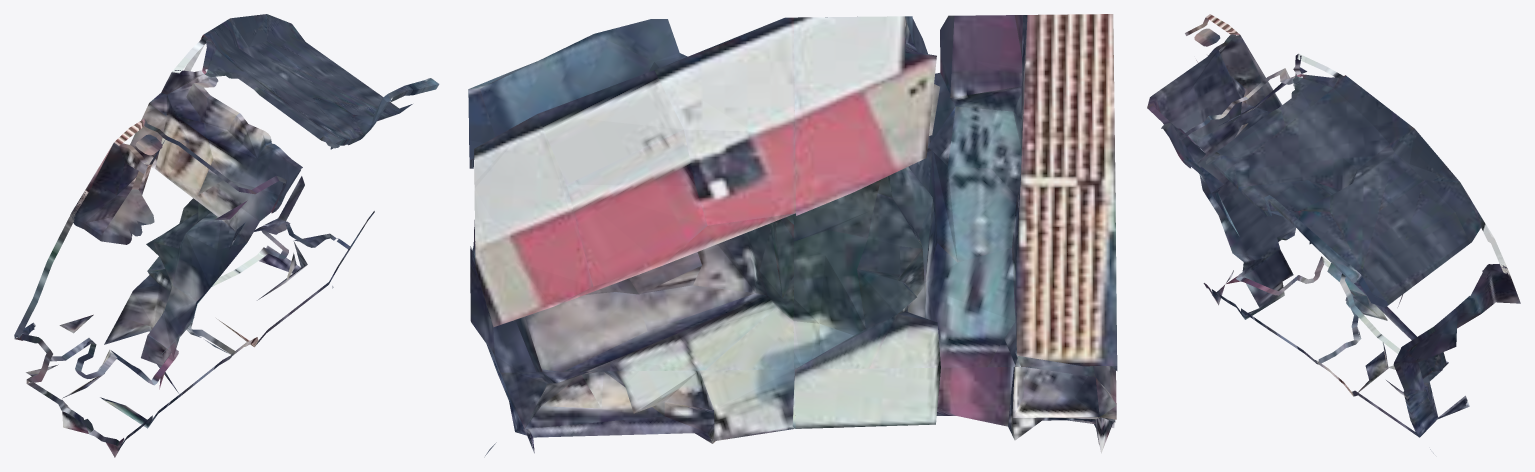
3 renders of one model, left to right at view 1: azimuth 30°, elevation 25°; view 2: azimuth 150°, elevation 25°; view 3: azimuth 270°, elevation 25°, orthographic. The views are drawn at different scales.
Size of the model in its own units: 38 by 26.83 by 29.98.
1 material, 1 textured.
